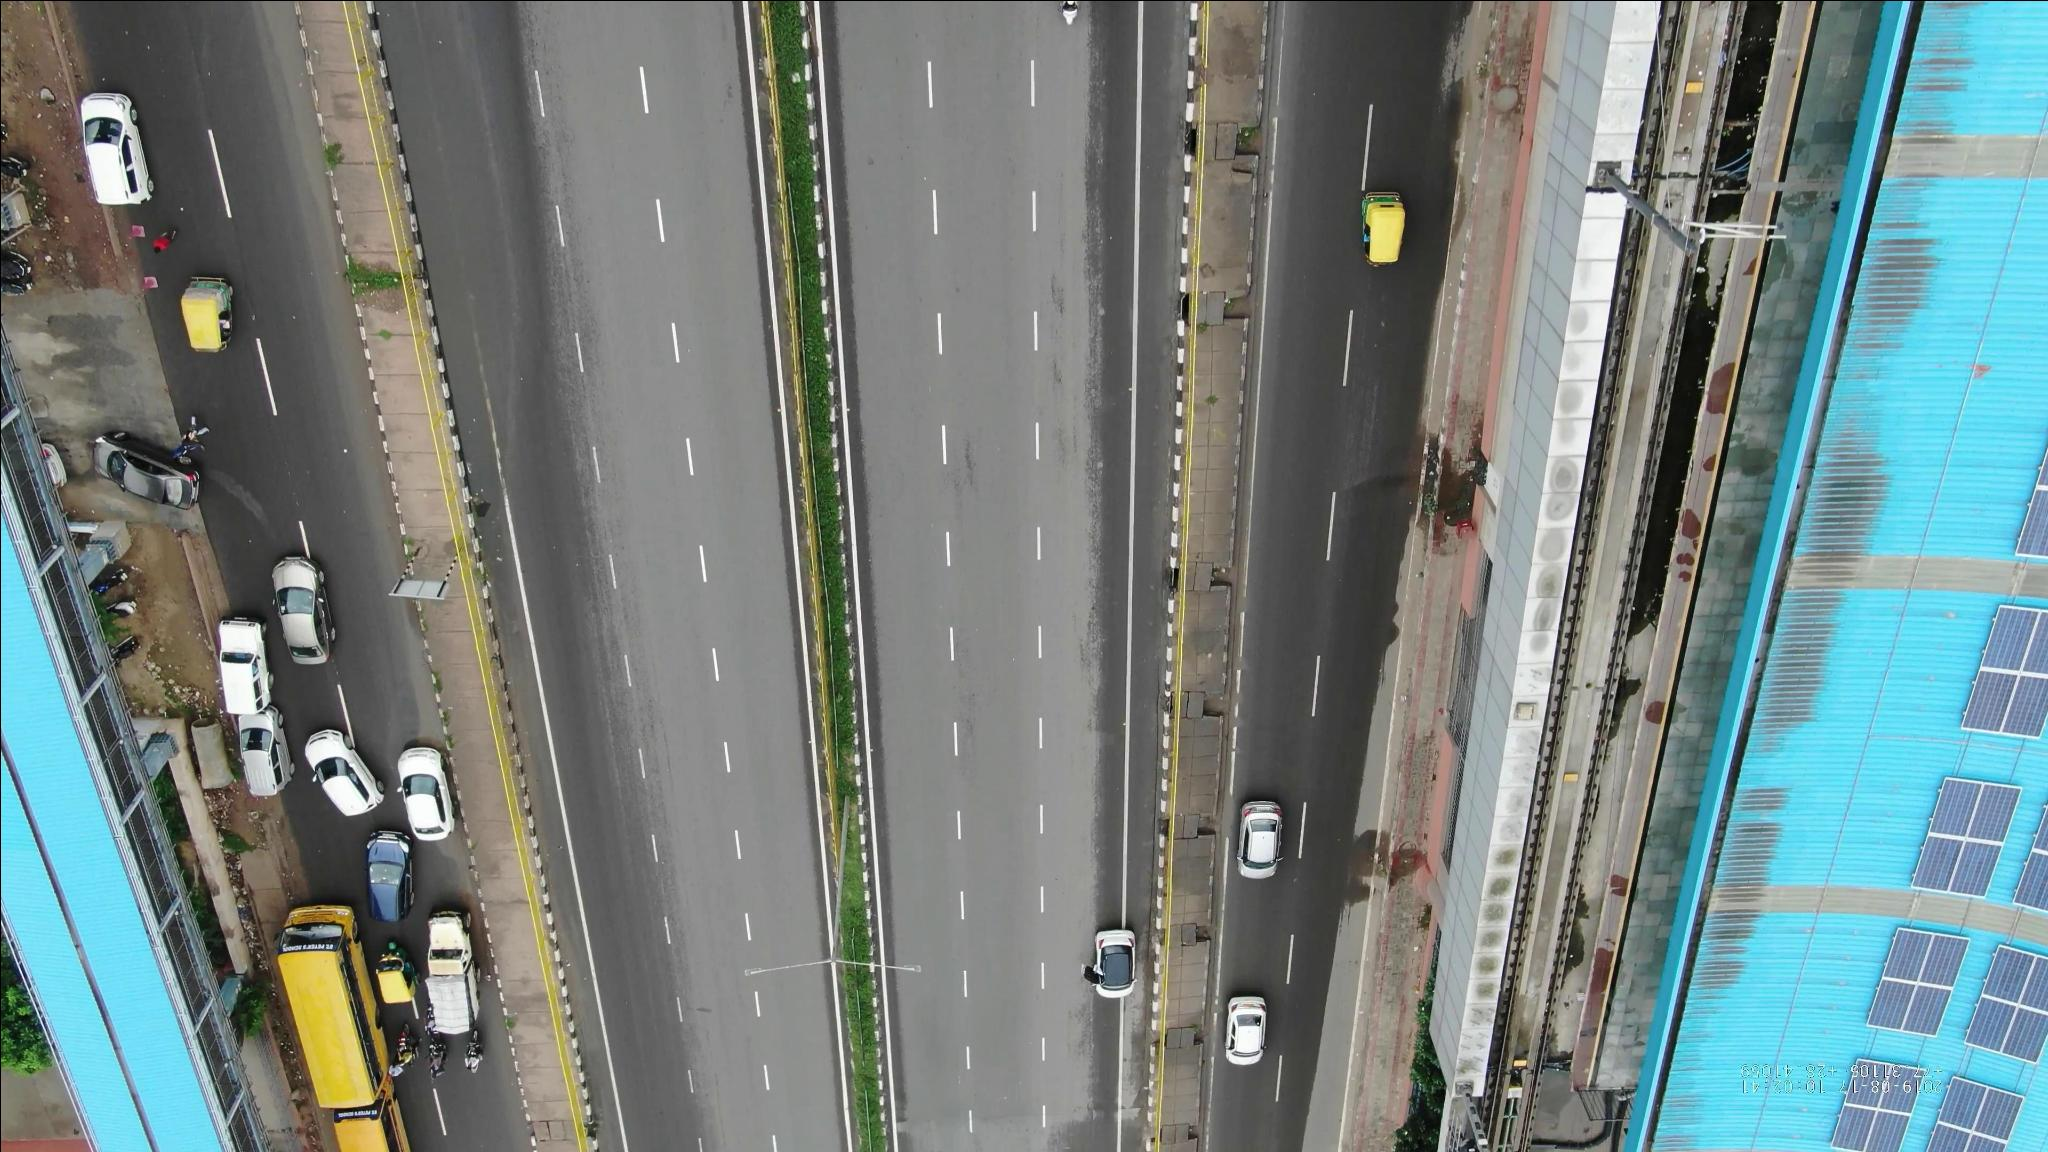Waterlogging: (376, 32, 525, 499)
